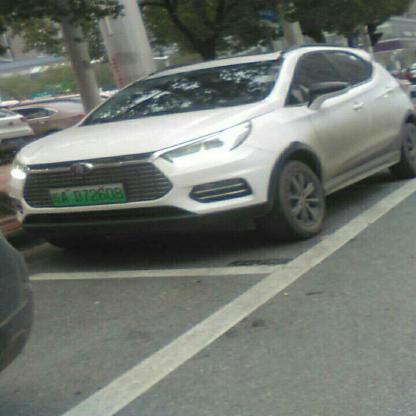lp: (56, 182, 120, 206)
